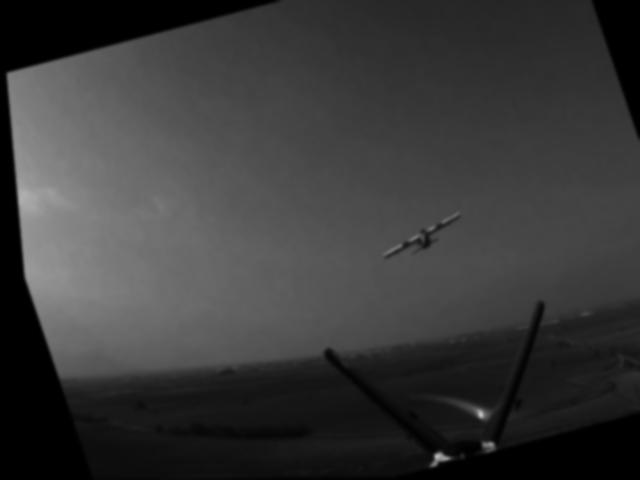hedef: (363, 202, 473, 278)
